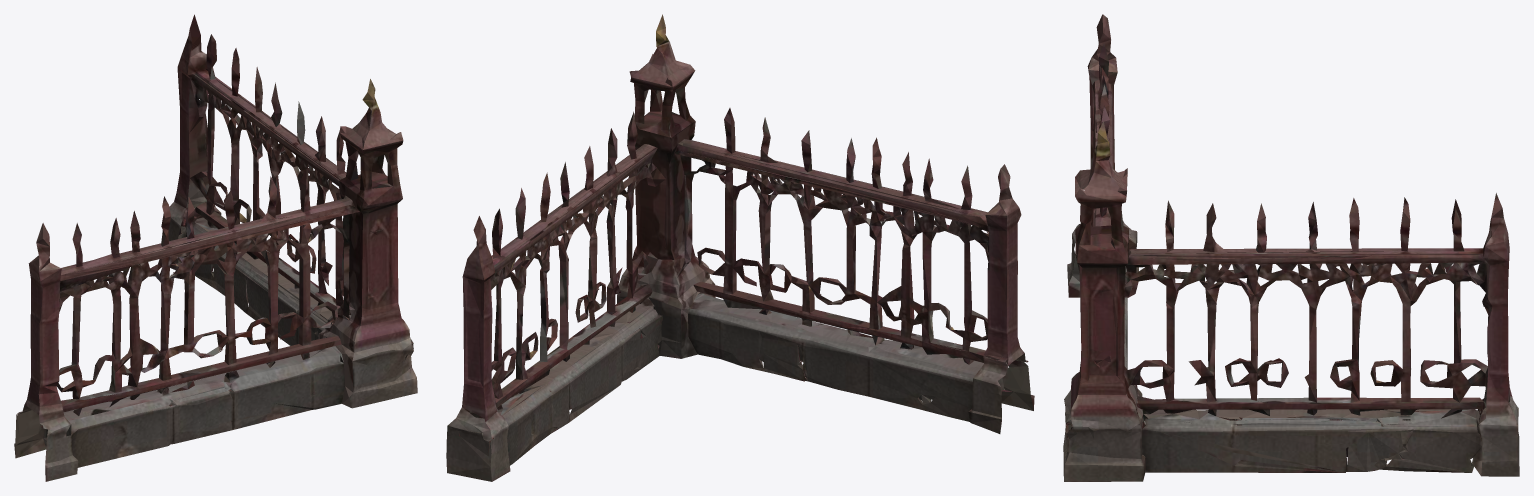
The model's file is park_fence_corner_1117.glb.
The picture shows the model from 3 angles, left to right: view 1: azimuth 30°, elevation 25°; view 2: azimuth 150°, elevation 25°; view 3: azimuth 270°, elevation 25°; orthographic projection. The views are drawn at different scales.
Parts seen in each view (by area): view 1: world; view 2: world; view 3: world.
Boxes of the visible parts, box(x1,y1,x2,y2) form: world: box(14, 14, 417, 481); world: box(446, 14, 1034, 481); world: box(1063, 14, 1519, 481).
Bounding box in the file's own units: 1.25 × 1 × 1.2.
1 material, 1 textured.
